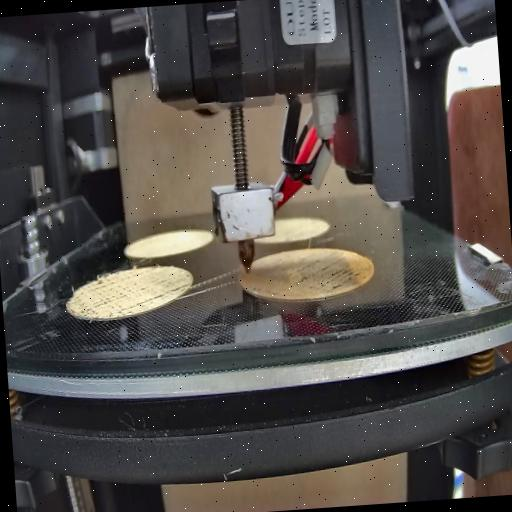under_extrusion: (71, 271, 168, 319), (288, 248, 370, 294), (170, 278, 194, 300)
